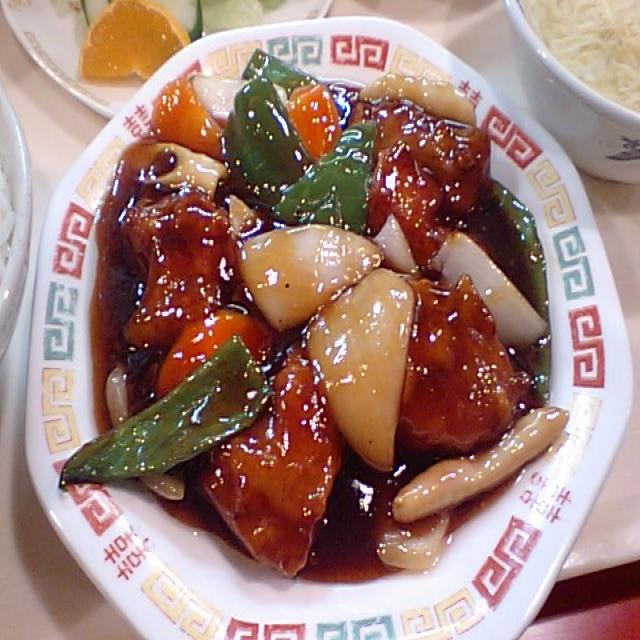猪肉菜式: (56, 49, 566, 587)
